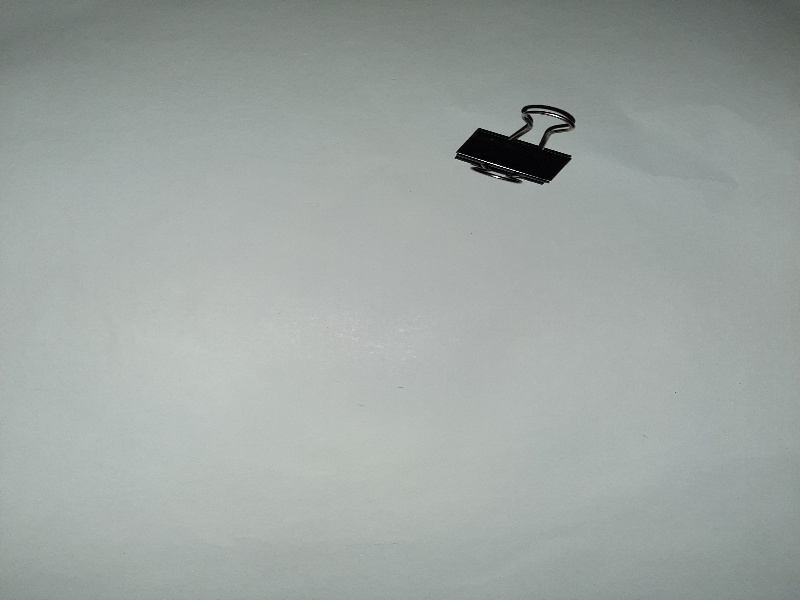Big Paperclip: (441, 87, 576, 198)
